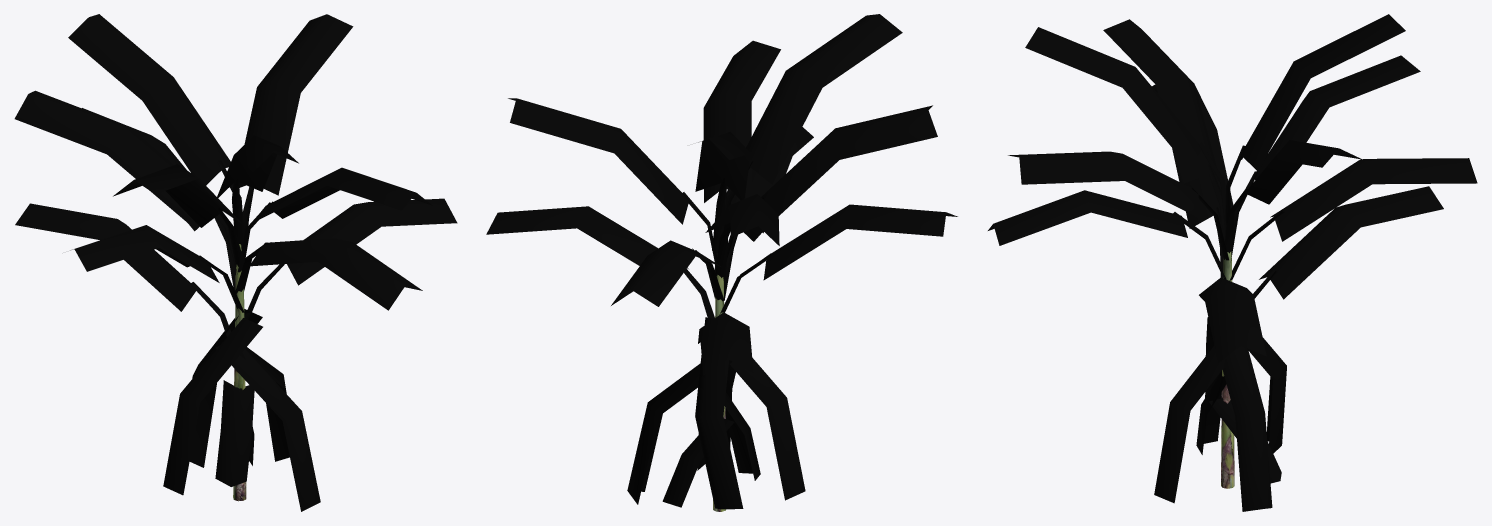
The model's file is ban_2s_LOD1.fbx.
3 renders of one model, left to right at view 1: azimuth 30°, elevation 25°; view 2: azimuth 150°, elevation 25°; view 3: azimuth 270°, elevation 25°, orthographic. The views are drawn at different scales.
Visible parts, largest first — view 1: ban_LOD1; view 2: ban_LOD1; view 3: ban_LOD1.
Boxes of the visible parts, left/top/right/bottom form: ban_LOD1: left=14, top=14, right=457, bottom=511; ban_LOD1: left=486, top=14, right=957, bottom=511; ban_LOD1: left=988, top=14, right=1477, bottom=511.
Size of the model in its own units: 1949 by 1970 by 2000.
